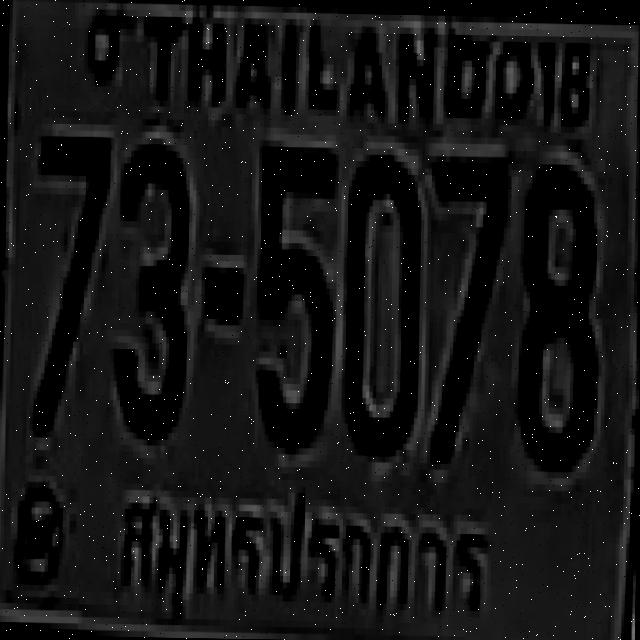0: (341, 148, 418, 450)
3: (108, 137, 186, 433)
5: (252, 136, 334, 444)
7: (427, 150, 505, 458), (32, 130, 106, 432)
8: (513, 157, 594, 465)
SamutPrakan: (98, 463, 502, 640)
